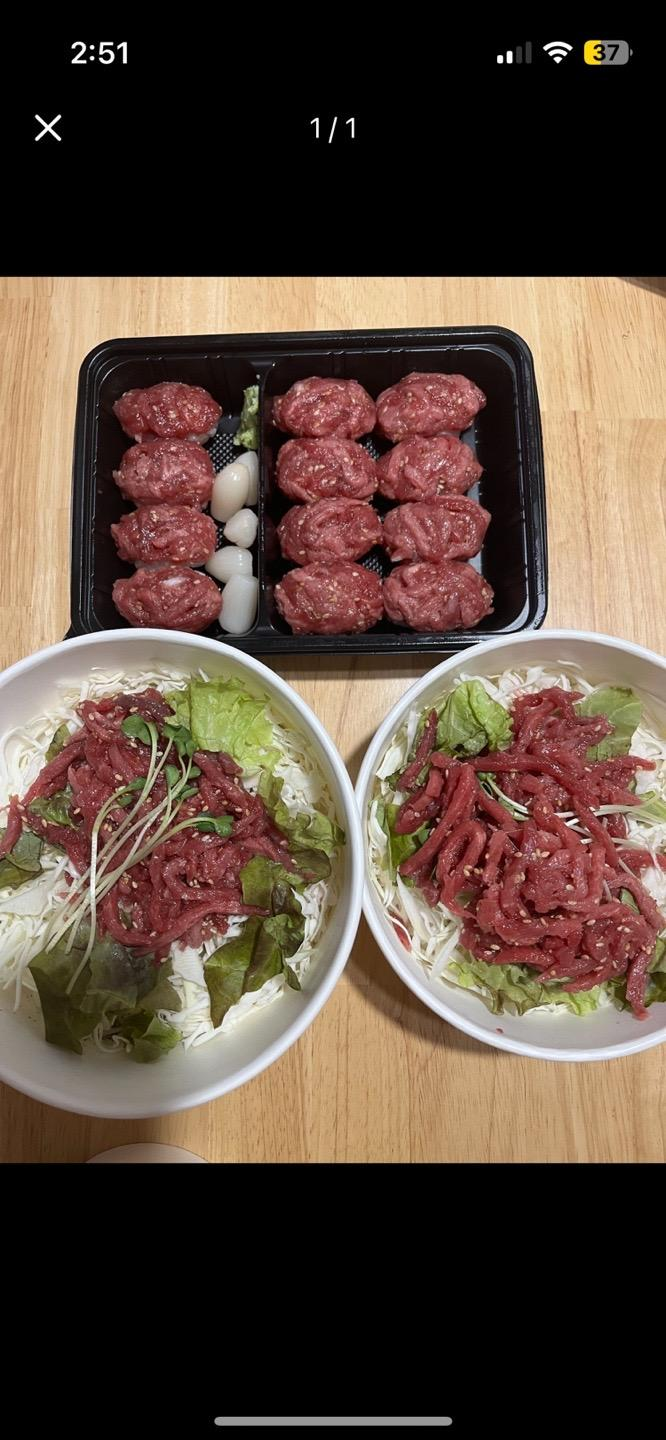Lunch Box: (0, 630, 364, 1117), (70, 327, 547, 654), (356, 630, 665, 1061)
